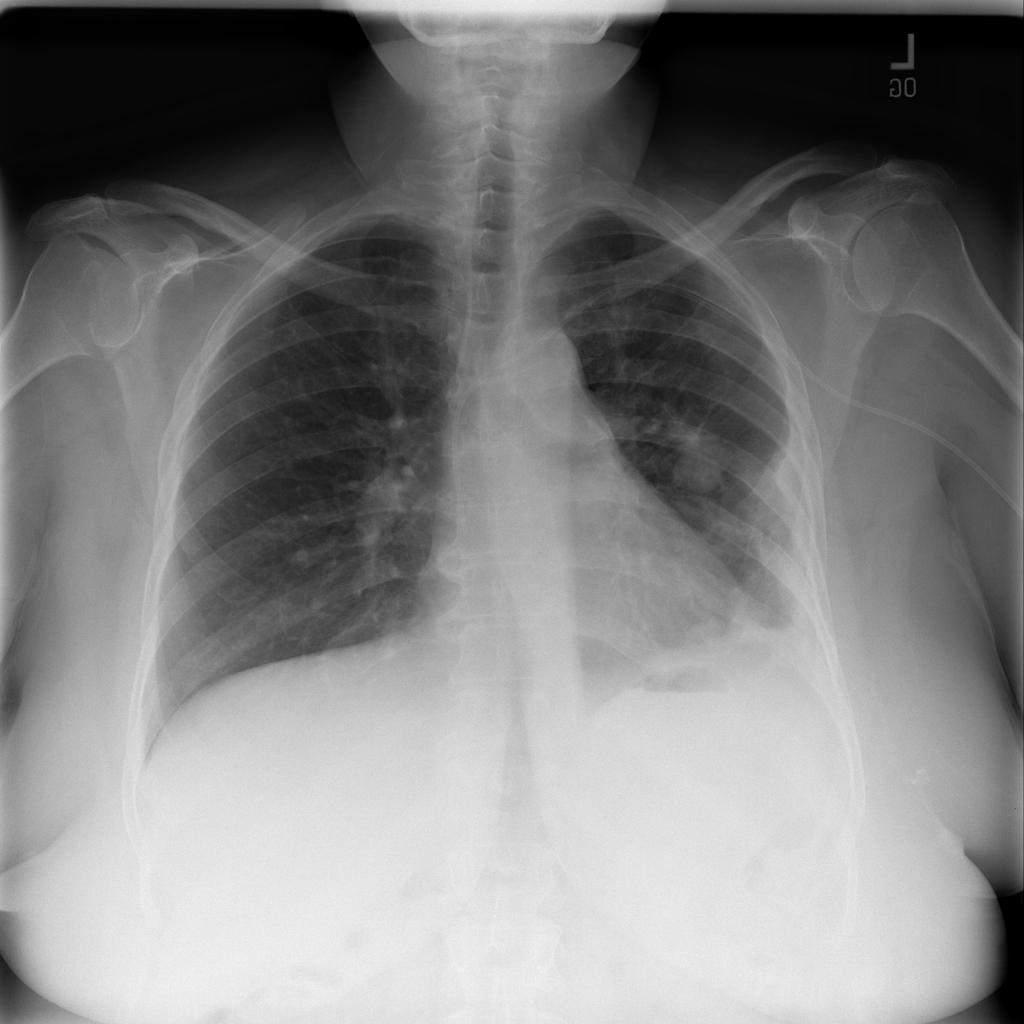nodule: (661, 428, 739, 504), (274, 533, 330, 579)
